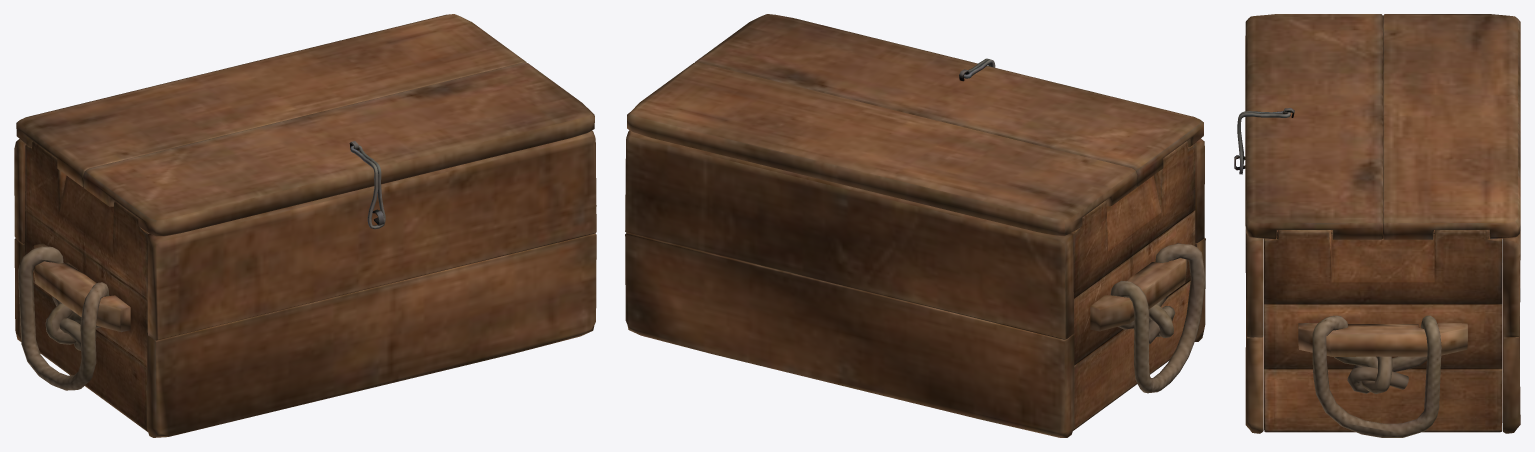
The model's file is wooden_crate_01.glb.
The picture shows the model from 3 angles, left to right: view 1: azimuth 30°, elevation 25°; view 2: azimuth 150°, elevation 25°; view 3: azimuth 270°, elevation 25°; orthographic projection. The views are drawn at different scales.
Parts seen in each view (by area): view 1: wooden_crate_01, wooden_crate_01_lid, wooden_crate_01_latch; view 2: wooden_crate_01, wooden_crate_01_lid; view 3: wooden_crate_01_lid, wooden_crate_01, wooden_crate_01_latch.
Part boxes in pixels (left/top/right/bottom): wooden_crate_01: left=14, top=131, right=596, bottom=437; wooden_crate_01_lid: left=16, top=14, right=594, bottom=236; wooden_crate_01_latch: left=350, top=145, right=385, bottom=229; wooden_crate_01: left=625, top=130, right=1205, bottom=437; wooden_crate_01_lid: left=627, top=14, right=1203, bottom=236; wooden_crate_01_lid: left=1245, top=14, right=1520, bottom=239; wooden_crate_01: left=1234, top=155, right=1520, bottom=437; wooden_crate_01_latch: left=1237, top=111, right=1290, bottom=174.
Size of the model in its own units: 0.8245 by 0.3483 by 0.4072.
1 material, 1 textured.
